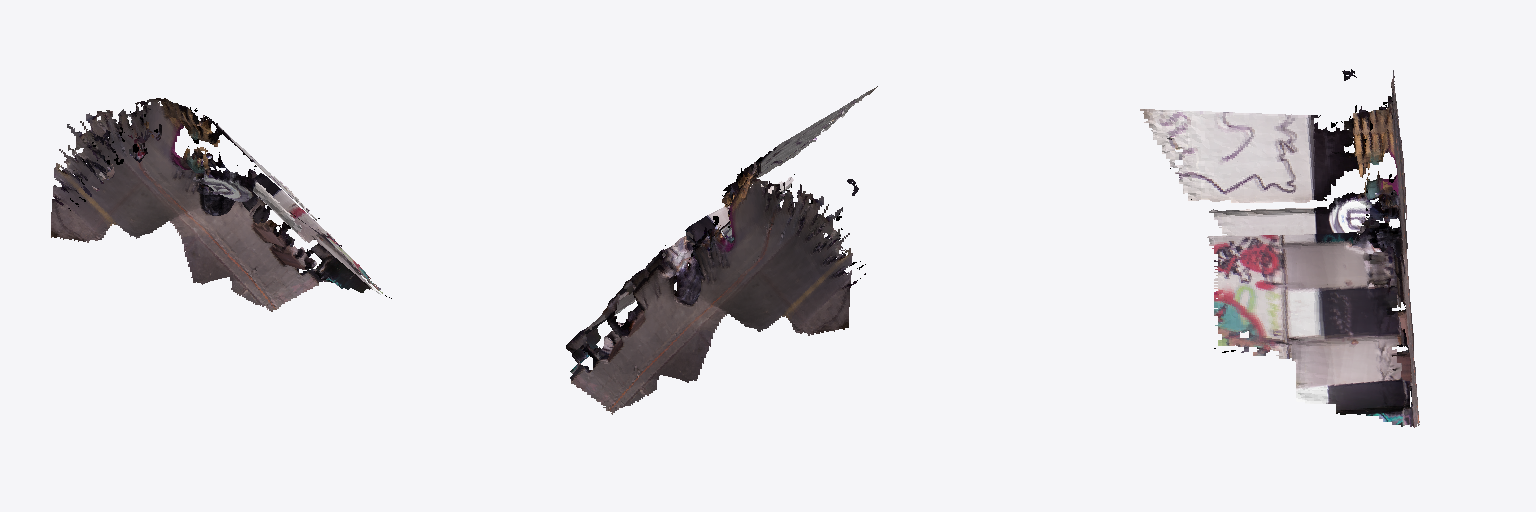
3 renders of one model, left to right at view 1: azimuth 30°, elevation 25°; view 2: azimuth 150°, elevation 25°; view 3: azimuth 270°, elevation 25°, orthographic.
Bounding box in the file's own units: 7.12 × 6.09 × 6.04.
Materials: 1 (1 with a texture image).